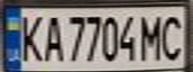0: (103, 12, 121, 62)
4: (118, 11, 139, 62)
7: (81, 11, 103, 62), (63, 11, 84, 63)
A: (39, 11, 66, 63)
C: (157, 10, 190, 62)
K: (15, 11, 45, 63)
M: (136, 11, 166, 62)
